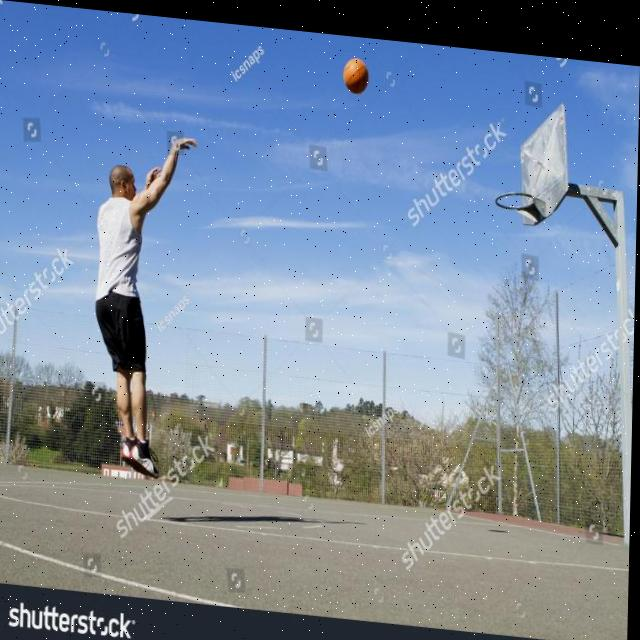Basketball: (343, 57, 369, 95)
hoop: (495, 190, 535, 212)
